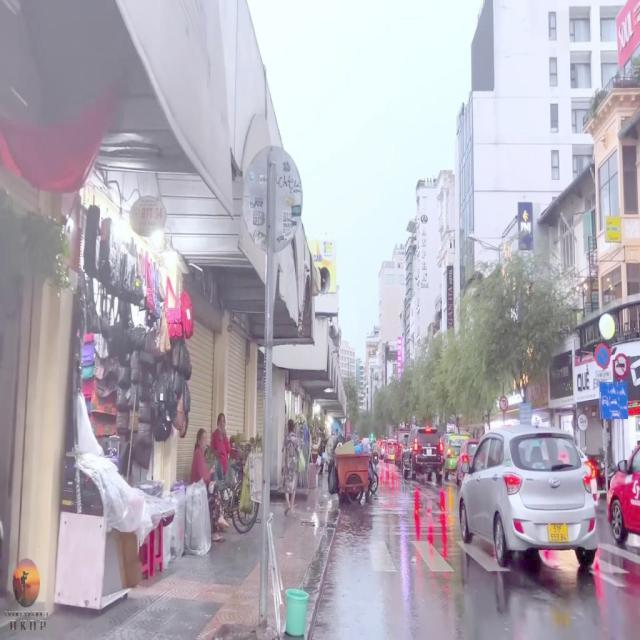106-cam-oto-tai: (612, 353, 629, 380)
123a-cam-re-trai: (499, 395, 508, 411)
131a-cam-do-xe: (593, 342, 610, 370)
